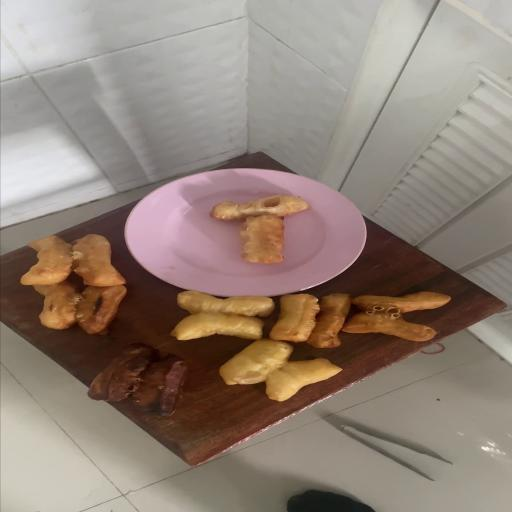street_burnt_defect: (88, 344, 188, 415), (34, 282, 125, 334)
